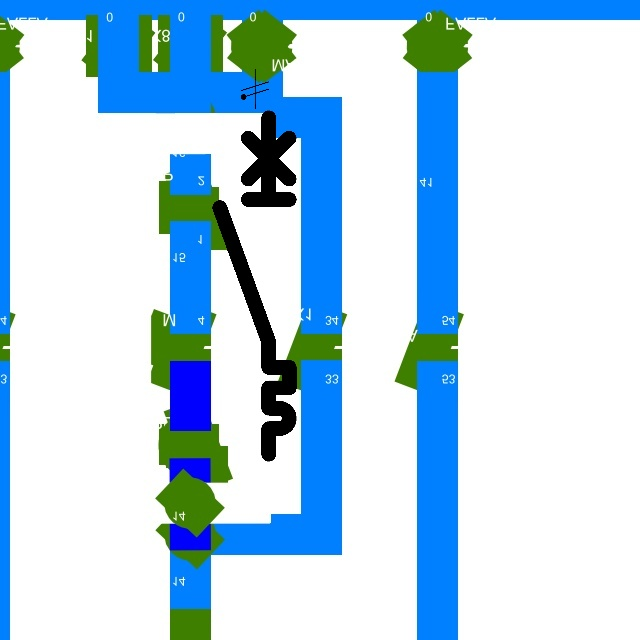interruptor_termomagnetico: (211, 109, 298, 463)
